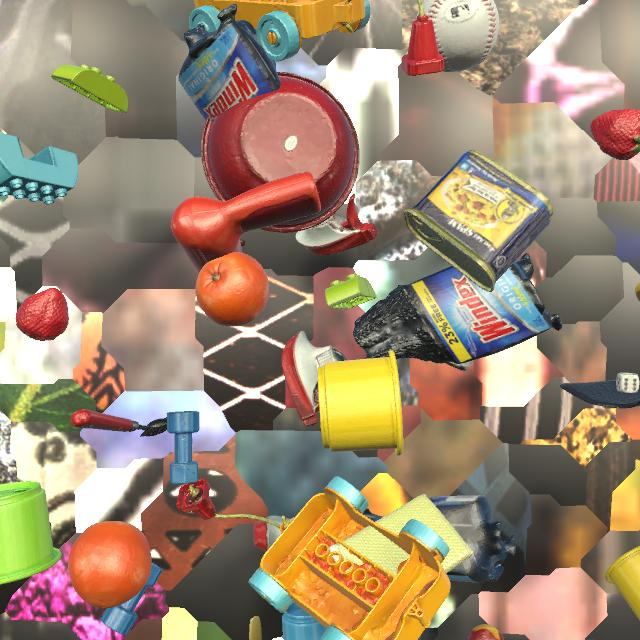ycb_005_tomato_soup_can: (444, 360, 474, 371)
ycb_010_potted_meat_can: (404, 150, 553, 292)
ycb_012_strawberry: (16, 288, 69, 341), (590, 109, 640, 160)
ycb_017_orange: (68, 521, 152, 609), (196, 252, 269, 327)
